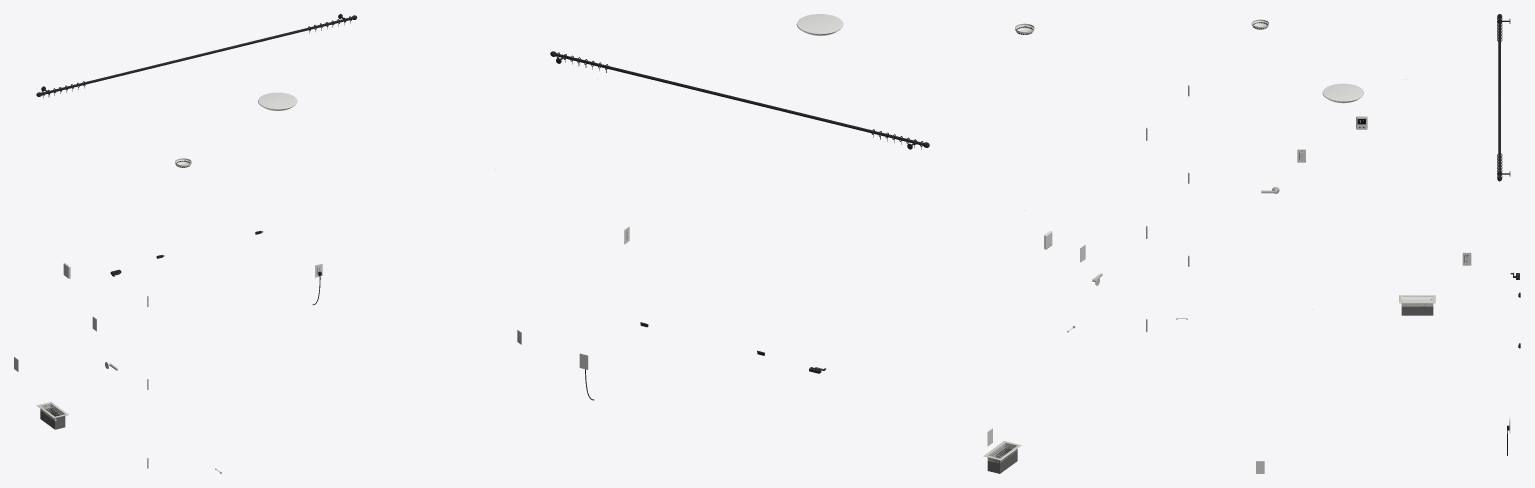
Rendered from fixtures.glb.
3 views of the same model, side by side, from view 1: azimuth 30°, elevation 25°; view 2: azimuth 150°, elevation 25°; view 3: azimuth 270°, elevation 25° (orthographic). The views are drawn at different scales.
Visible parts, largest first — view 1: NEW_roomshell_root__mesh, fixtures__mesh; view 2: NEW_roomshell_root__mesh, fixtures__mesh; view 3: NEW_roomshell_root__mesh, fixtures__mesh.
Boxes of the visible parts, x1,y1,x2,y2 form: NEW_roomshell_root__mesh: [14, 92, 521, 473]; fixtures__mesh: [36, 14, 357, 98]; NEW_roomshell_root__mesh: [579, 14, 1147, 473]; fixtures__mesh: [550, 51, 929, 149]; NEW_roomshell_root__mesh: [1176, 19, 1520, 473]; fixtures__mesh: [1497, 14, 1510, 181].
Bounding box in the file's own units: 4 × 2.84 × 2.78.
Materials: 3 (3 with a texture image).
